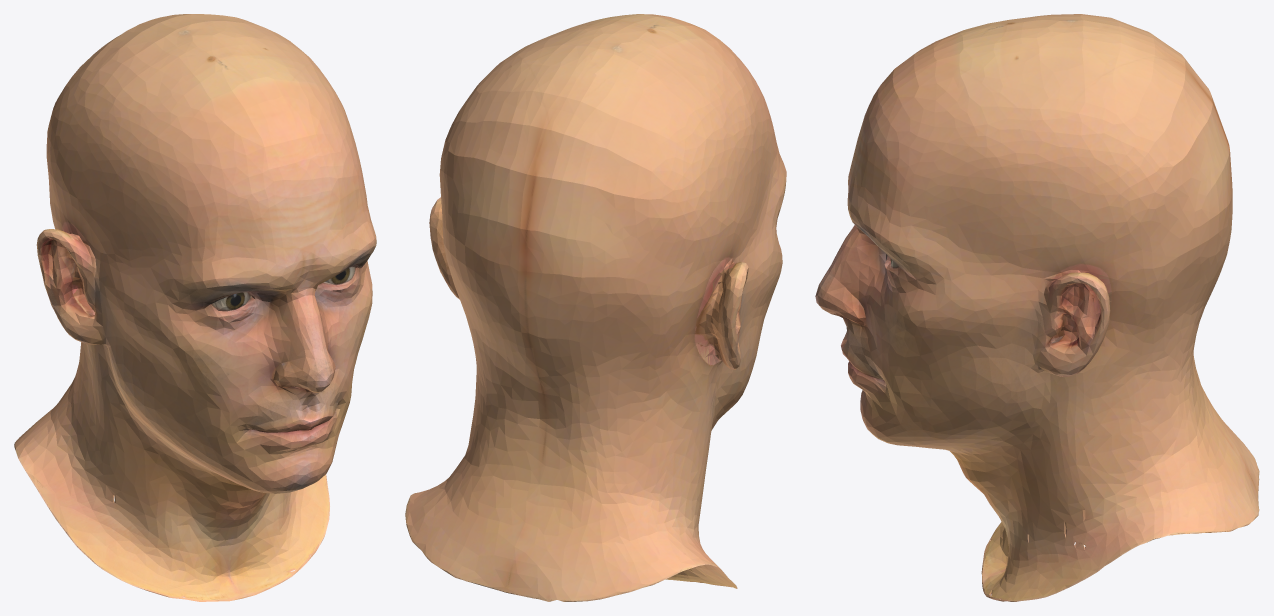
File: Enigmatic_Portrait_0514074438_texture.fbx
The picture shows the model from 3 angles, left to right: view 1: azimuth 30°, elevation 25°; view 2: azimuth 150°, elevation 25°; view 3: azimuth 270°, elevation 25°; orthographic projection. The views are drawn at different scales.
Parts seen in each view (by area): view 1: temp; view 2: temp; view 3: temp.
Part boxes in pixels (box(x1,y1,x2,y2)): temp: box(14, 14, 376, 601); temp: box(405, 14, 786, 601); temp: box(815, 14, 1259, 601).
Size of the model in its own units: 115 by 200 by 146.
Materials: 1 (1 with a texture image).
